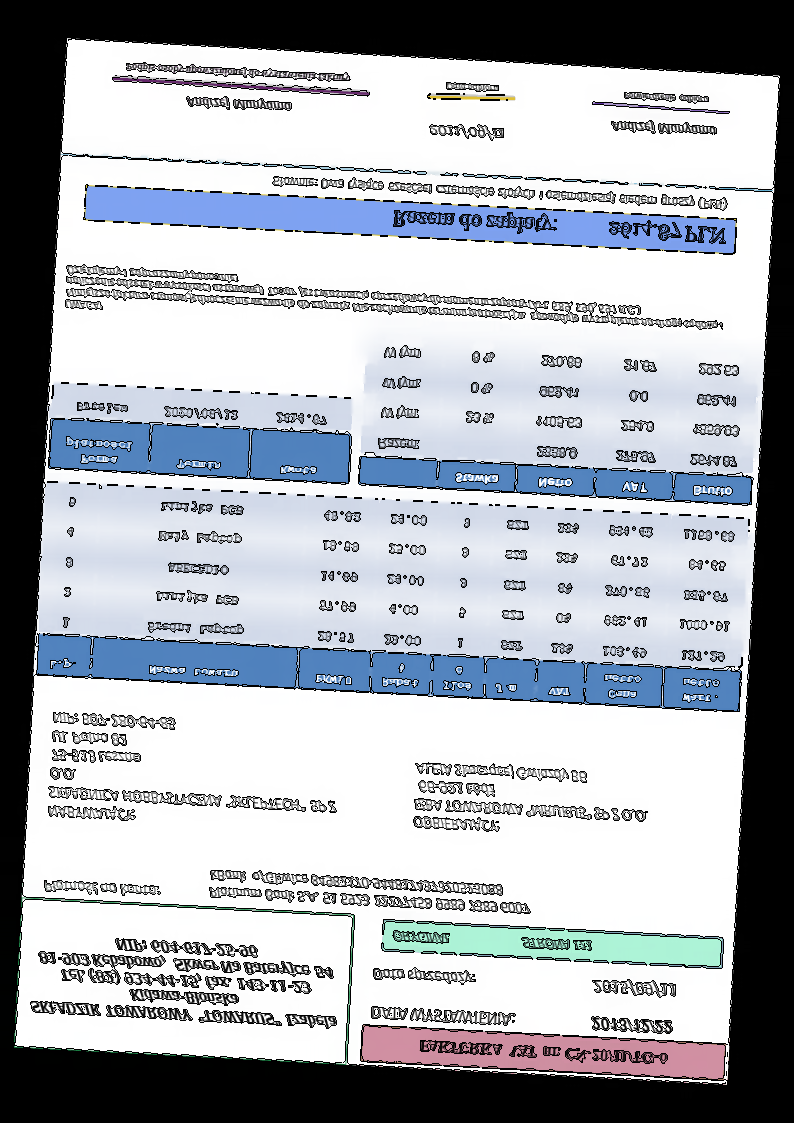Table: (34, 479, 751, 713), (356, 330, 761, 509), (47, 381, 355, 486)
TextBox: (62, 262, 730, 347), (44, 708, 344, 837), (27, 929, 345, 1034), (410, 757, 652, 845), (270, 169, 729, 215), (205, 865, 533, 918), (390, 204, 728, 250), (414, 1036, 669, 1070), (389, 927, 595, 958), (122, 60, 352, 86), (366, 1001, 515, 1032), (369, 963, 478, 991), (41, 877, 161, 902), (181, 93, 297, 116), (609, 116, 718, 139), (590, 975, 679, 1002), (588, 1013, 675, 1038), (425, 121, 506, 144), (620, 89, 709, 107), (442, 78, 502, 97)
